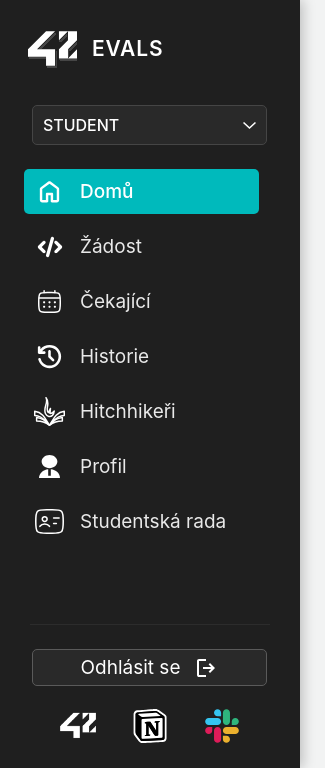
Test: Sidebar language › shows the navigation in the chosen language
Expected: the button "Odhlásit se" is shown, [32,649,267,686]
Click the button "STUDENT".
click(150, 125)  # box [32,105,267,145]
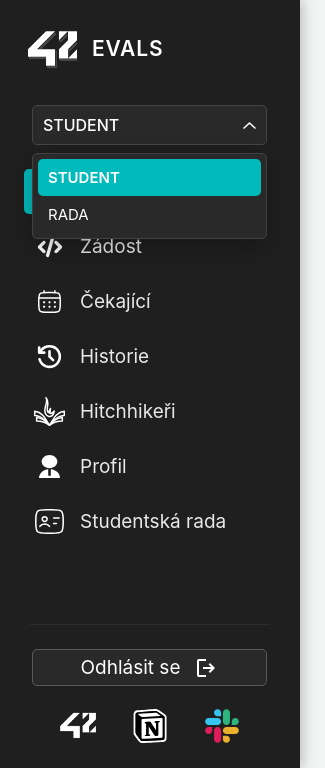
Now the options read "STUDENT", "RADA", in this order, box [38,159,261,196]; [38,196,261,233]
